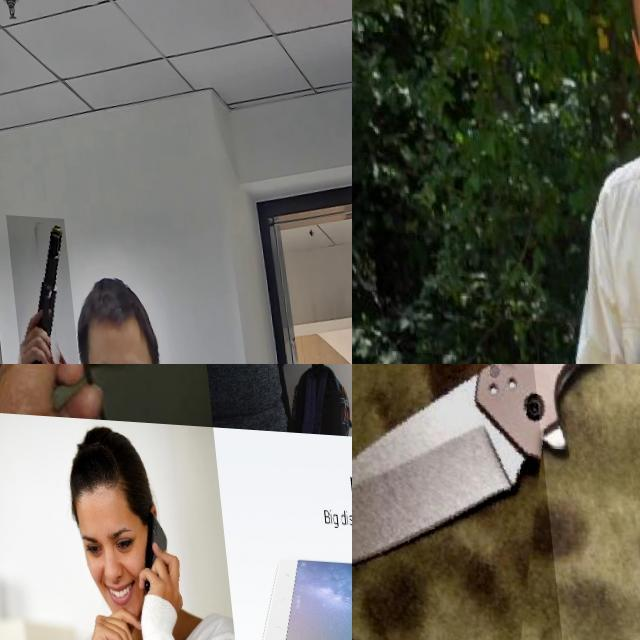-: (352, 364, 552, 640)
gun-knife-thesis - v11 Yolov5 augmented: (0, 211, 71, 364)
